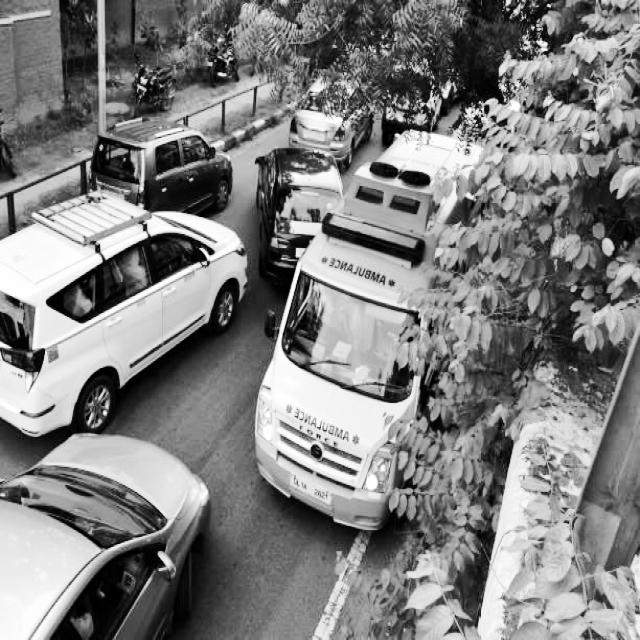Ambulance: (313, 198, 434, 317)
